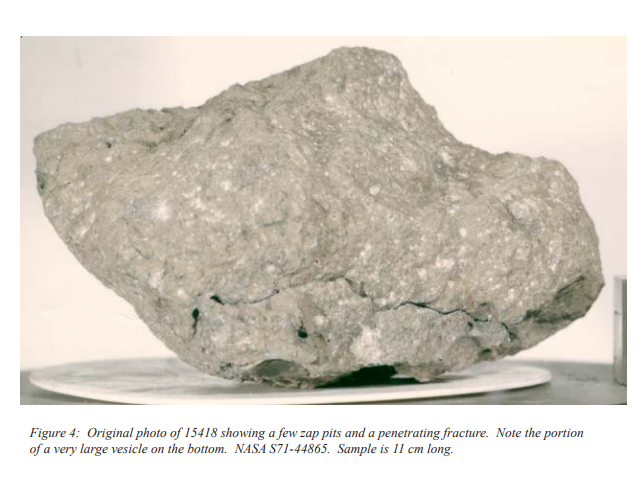Breccia: (25, 36, 612, 389)
